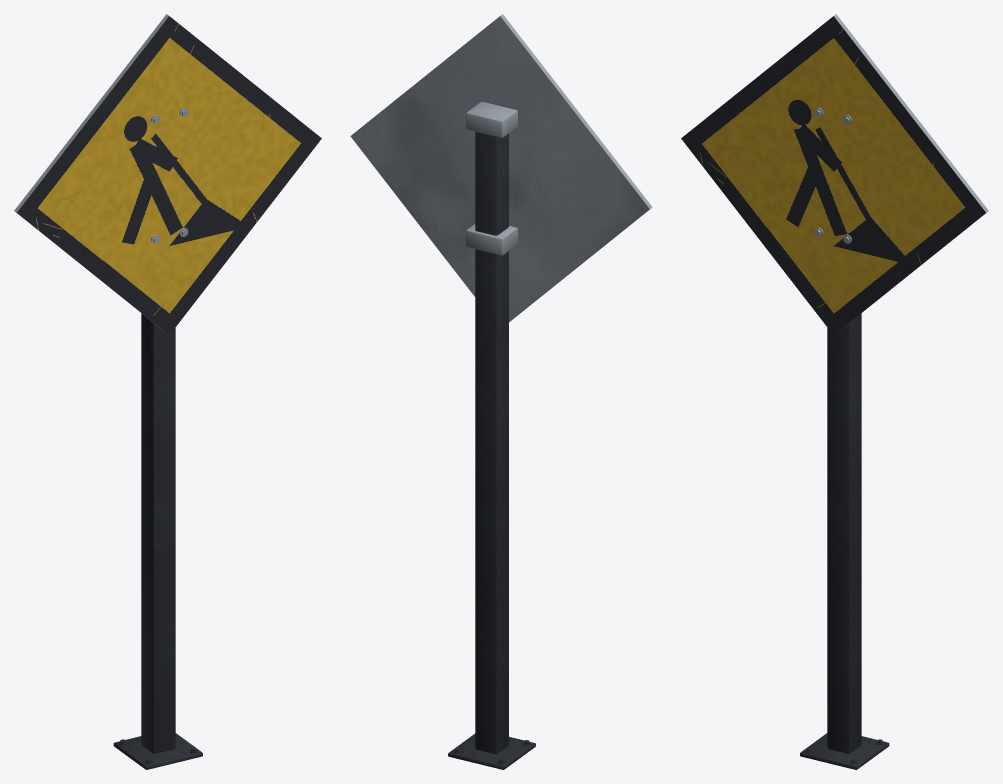
The model's file is construction_sign.glb.
3 renders of one model, left to right at view 1: azimuth 30°, elevation 25°; view 2: azimuth 150°, elevation 25°; view 3: azimuth 330°, elevation 25°, orthographic.
Visible parts, largest first — view 1: ConstructionSignMesh; view 2: ConstructionSignMesh; view 3: ConstructionSignMesh.
Boxes of the visible parts, x1=… form: ConstructionSignMesh: x1=14, y1=14, x2=321, y2=769; ConstructionSignMesh: x1=350, y1=14, x2=652, y2=769; ConstructionSignMesh: x1=681, y1=14, x2=988, y2=769.
Size of the model in its own units: 0.64 by 1.49 by 0.12.
Materials: 3 (3 with a texture image).
